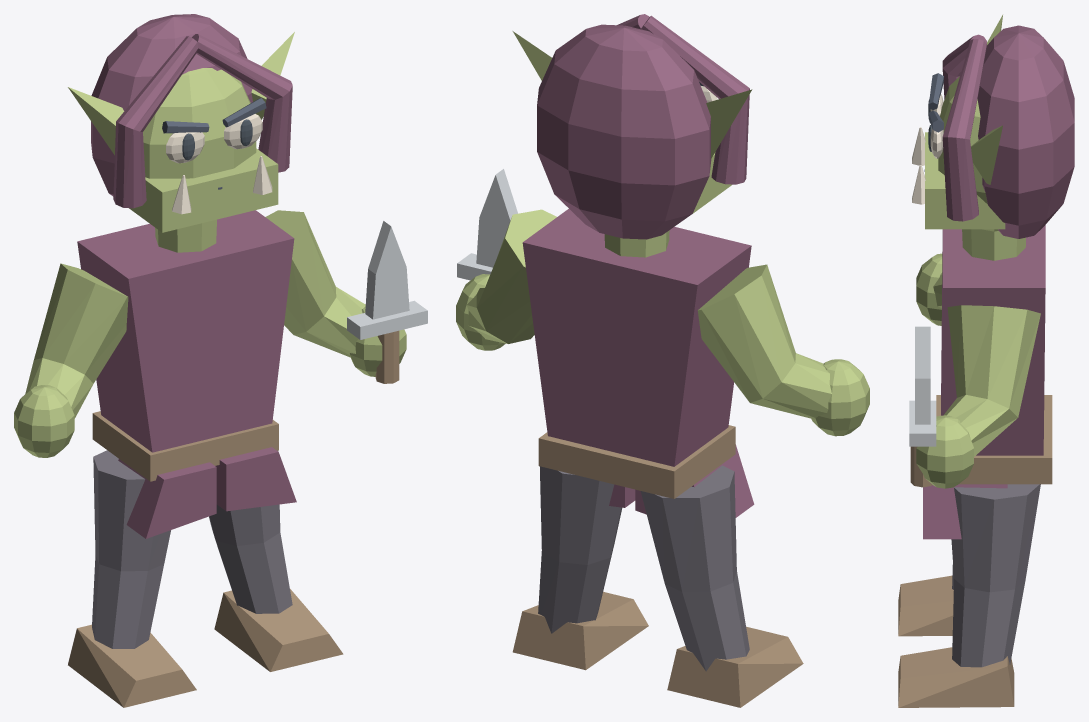
The model's file is scout.glb.
The picture shows the model from 3 angles, left to right: view 1: azimuth 30°, elevation 25°; view 2: azimuth 150°, elevation 25°; view 3: azimuth 270°, elevation 25°; orthographic projection. The views are drawn at different scales.
Visible parts, largest first — view 1: torso, leg_-1, arm_-1, head, hood, leg_1, arm_1, jaw, foot_-1, foot_1, belt, hood_edge_-1 (+13 smaller); view 2: torso, hood, leg_-1, arm_-1, leg_1, belt, foot_-1, foot_1, arm_1, hood_edge_-1, hand_-1, sword_blade (+5 smaller); view 3: hood, leg_1, torso, arm_1, foot_1, hood_edge_1, belt, foot_-1, hand_1, jaw, tunic_hem_1, sword_blade (+11 smaller).
Part boxes in pixels (box(x1,y1,x2,y2)): torso: box(77, 210, 294, 452); leg_-1: box(92, 450, 170, 648); arm_-1: box(25, 263, 128, 418); head: box(143, 68, 256, 178); hood: box(91, 14, 252, 196); leg_1: box(209, 450, 292, 613); arm_1: box(265, 210, 365, 357); jaw: box(129, 148, 278, 232); foot_-1: box(68, 624, 196, 707); foot_1: box(214, 589, 343, 671); belt: box(92, 411, 278, 481); hood_edge_-1: box(113, 36, 198, 208); torso: box(522, 209, 751, 466); hood: box(537, 24, 711, 239); leg_-1: box(640, 465, 749, 671); arm_-1: box(697, 264, 831, 419); leg_1: box(538, 466, 622, 633); belt: box(538, 425, 735, 498); foot_-1: box(667, 626, 803, 707); foot_1: box(512, 591, 648, 670); arm_1: box(466, 209, 556, 343); hood_edge_-1: box(641, 15, 749, 184); hand_-1: box(811, 359, 869, 436); sword_blade: box(476, 169, 517, 267); hood: box(977, 25, 1074, 238); leg_1: box(951, 484, 1040, 667); torso: box(941, 225, 1045, 455); arm_1: box(943, 305, 1040, 456); foot_1: box(898, 647, 1014, 707); hood_edge_1: box(942, 39, 986, 221); belt: box(936, 395, 1052, 484); foot_-1: box(898, 575, 953, 636); hand_1: box(916, 415, 973, 488); jaw: box(925, 132, 1005, 229); tunic_hem_1: box(923, 484, 1007, 539); sword_blade: box(915, 326, 930, 424).
Size of the model in its own units: 1.39 by 2.1 by 0.5404.
